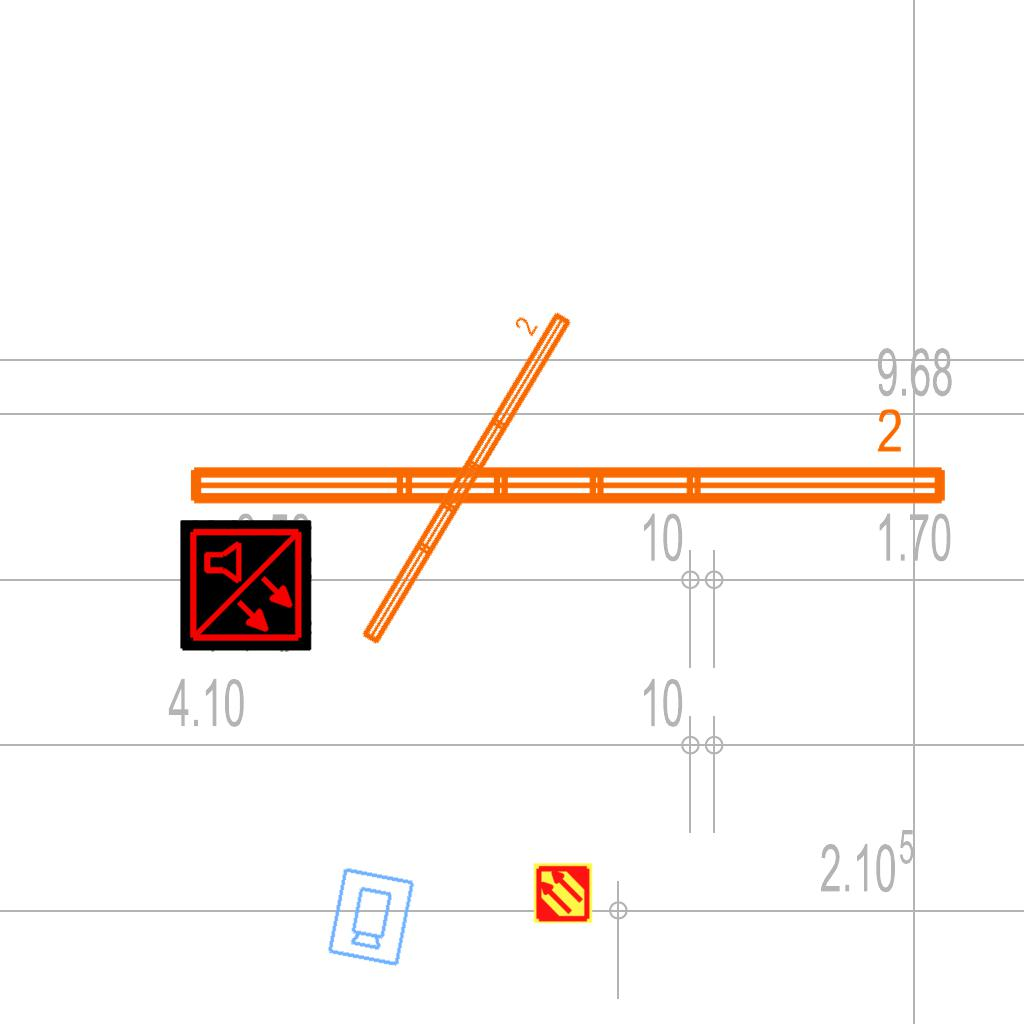ASR_Ansaugrauchmelder: (532, 862, 594, 924)
Ambulanz_Pendelleuchte_LED: (331, 291, 580, 653), (180, 404, 954, 516)
KFO_Kamera_mit_Festobjektiv: (324, 864, 417, 969)
OKW_Multisensormelder_(Kombination_optischer_Rauch-Kahlenmonoxid_Waerme-Melder): (180, 520, 312, 652)
